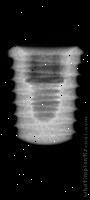NucleOSS: (7, 45, 85, 148)
